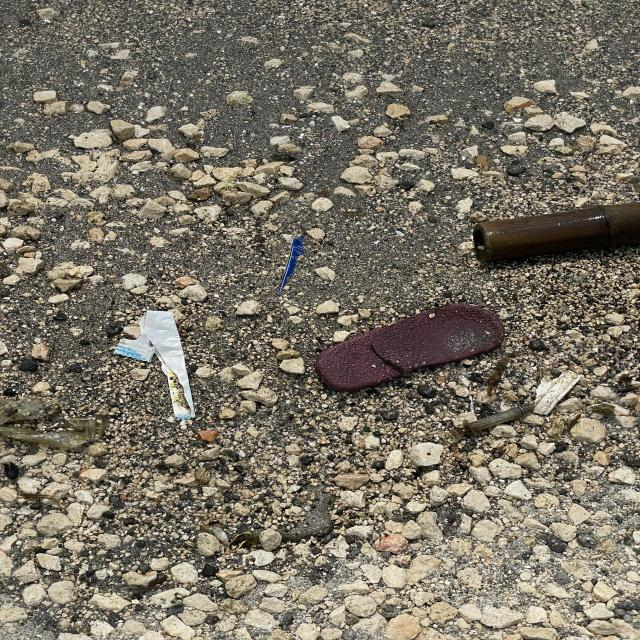plastic_waste: (117, 315, 197, 424), (278, 238, 305, 296)
